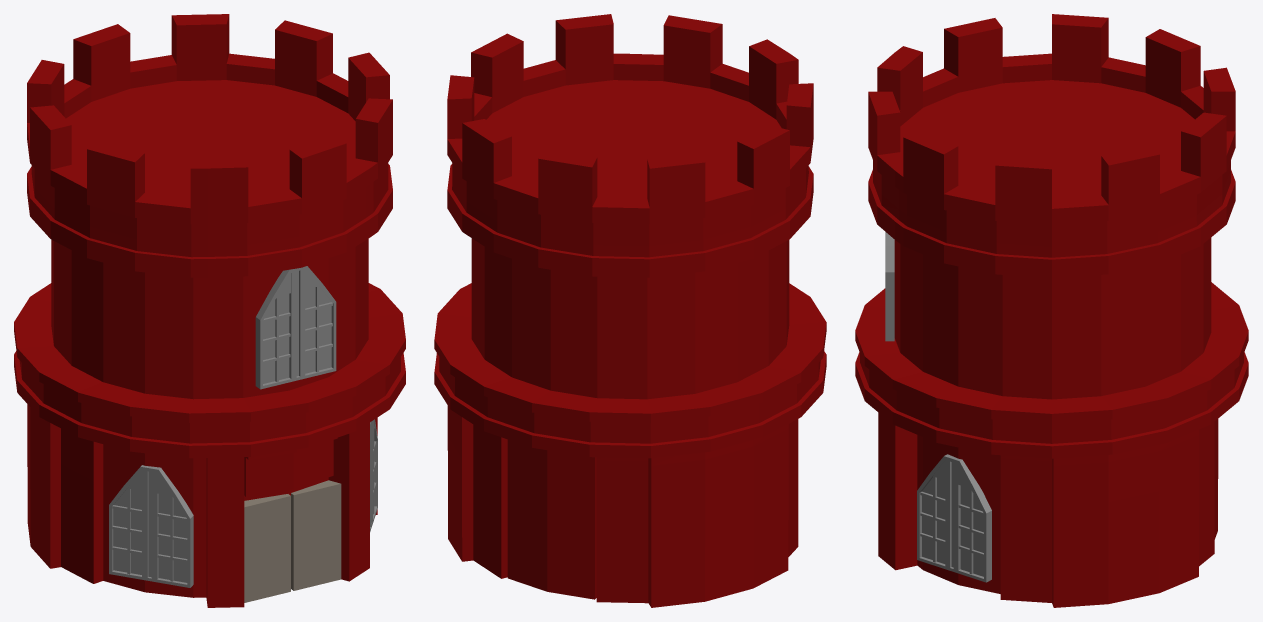
The model's file is libtext.fbx.
3 renders of one model, left to right at view 1: azimuth 30°, elevation 25°; view 2: azimuth 150°, elevation 25°; view 3: azimuth 270°, elevation 25°, orthographic.
Visible parts, largest first — view 1: pCylinder1, pPlane3, pPlane1, pCube2, pCube1, pPlane4; view 2: pCylinder1; view 3: pCylinder1, pPlane4, pPlane1.
Boxes of the visible parts, x1,y1,x2,y2 form: pCylinder1: (14, 14, 405, 607); pPlane3: (109, 465, 193, 587); pPlane1: (255, 266, 336, 389); pCube2: (291, 480, 341, 590); pCube1: (244, 494, 290, 602); pPlane4: (370, 419, 377, 531); pCylinder1: (434, 14, 826, 607); pCylinder1: (855, 14, 1248, 607); pPlane4: (917, 454, 991, 582); pPlane1: (885, 232, 894, 341).
Bounding box in the file's own units: 19.35 × 23.82 × 19.35.
